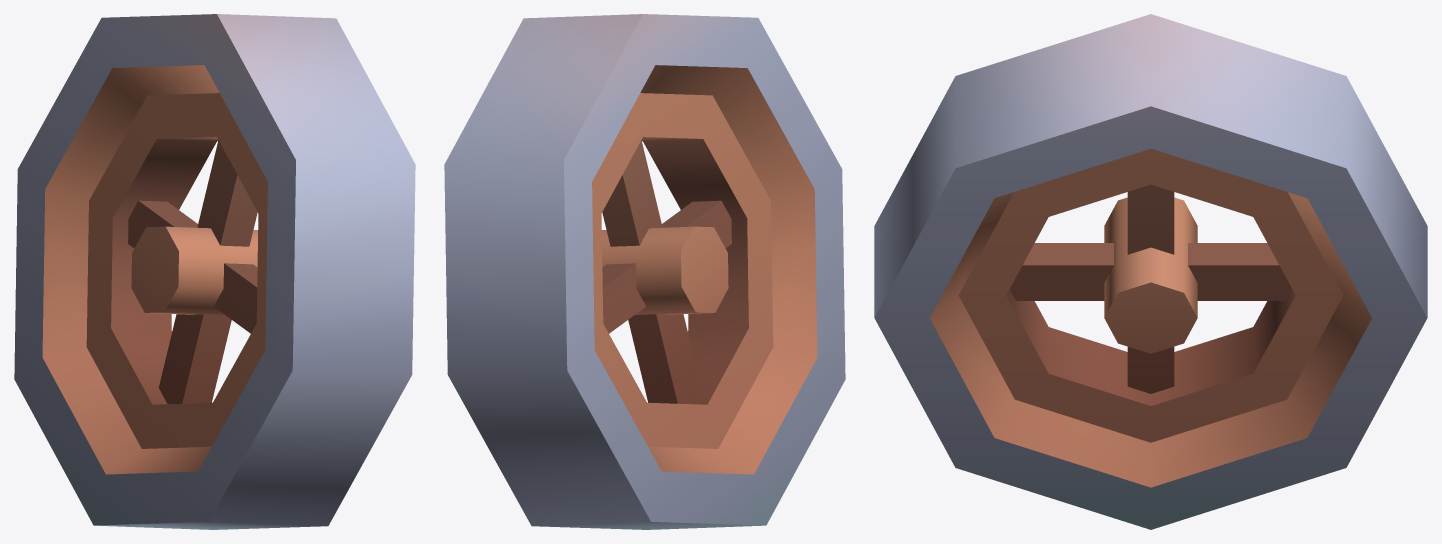
File: wheel.glb
3 renders of one model, left to right at view 1: azimuth 30°, elevation 25°; view 2: azimuth 150°, elevation 25°; view 3: azimuth 270°, elevation 25°, orthographic.
Visible parts, largest first — view 1: wheel; view 2: wheel; view 3: wheel.
Boxes of the visible parts, <box> form: wheel: <box>14,14,415,529</box>; wheel: <box>444,14,845,529</box>; wheel: <box>874,14,1427,529</box>.
Size of the model in its own units: 0.2384 by 0.4833 by 0.4678.
Materials: 1 (1 with a texture image).
